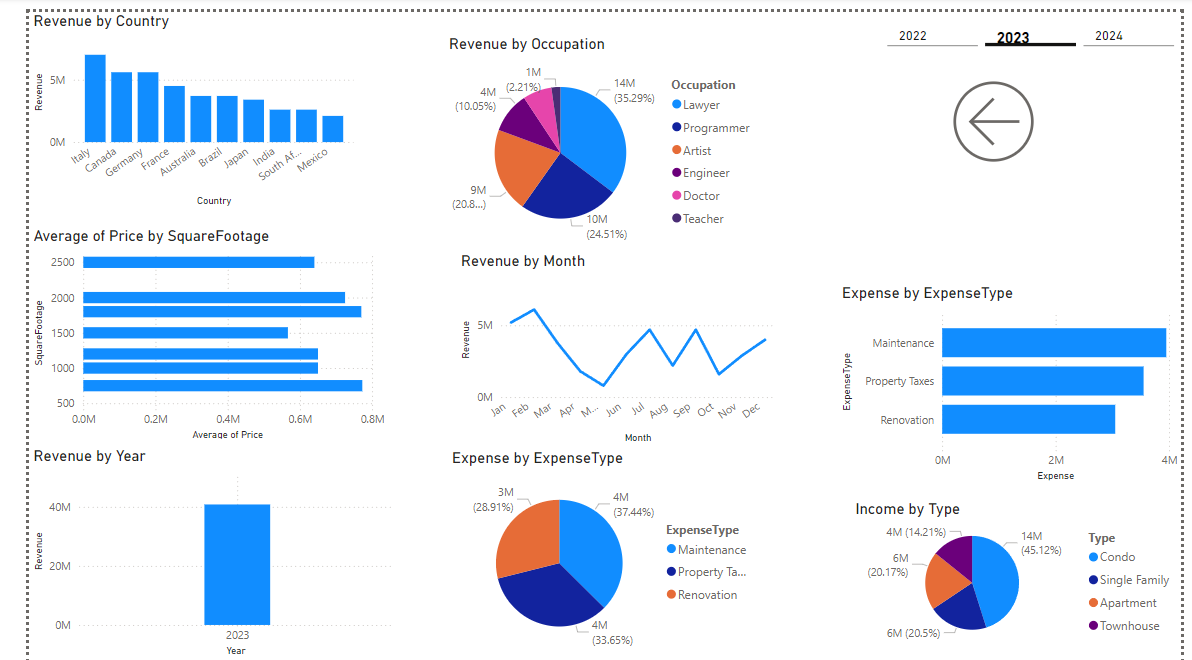

This screenshot's page, from the dashboard's own definition file:
{"tool":"powerbi","page":{"name":"Page 2","canvas":[1280,720],"ordinal":1},"visuals":[{"type":"lineChart","fields":{"Y":["All Measures.Revenue"],"Category":["Calendar.Month"]},"box":[474.4,267.2,357.8,217],"z":0},{"type":"barChart","fields":{"Category":["Property_Table.SquareFootage"],"Y":["Avg(Property_Table.Price)"]},"box":[0,238,399.9,241.3],"z":2000},{"type":"advancedSlicerVisual","fields":{"Values":["Calendar.Year"]},"box":[948.3,0,331.7,43.3],"z":3001},{"type":"clusteredColumnChart","fields":{"Category":["Property_Table.Country"],"Y":["All Measures.Revenue"]},"box":[0,0,365.9,220.2],"z":3002},{"type":"pieChart","fields":{"Category":["Client_Table.Occupation"],"Y":["All Measures.Revenue"]},"box":[461.5,24.3,353,242.9],"z":3003},{"type":"pieChart","fields":{"Y":["All Measures.Expense"],"Category":["Expense_Table.ExpenseType"]},"box":[464.7,485.8,349.8,234.8],"z":3004},{"type":"barChart","fields":{"Category":["Expense_Table.ExpenseType"],"Y":["All Measures.Expense"]},"box":[898.7,301.2,382.1,223.5],"z":3005},{"type":"clusteredColumnChart","fields":{"Category":["Calendar.Year"],"Y":["All Measures.Revenue"]},"box":[0,484.1,408,236.4],"z":3006},{"type":"pieChart","fields":{"Y":["All Measures.Income"],"Category":["Property_Table.Type"]},"box":[913.2,542.4,367.6,165.2],"z":3007},{"type":"actionButton","box":[1016.9,66.4,215.4,110.1],"z":3008}]}

Visuals, with their boxes in screenshot pixels (x1, y1, x2, y2), scaled from the page's 1280x720 canvas onto the 1192x660 screenshot:
lineChart - All Measures.Revenue x Calendar.Month: x1=442, y1=245, x2=775, y2=444
barChart - Property_Table.SquareFootage x Avg(Property_Table.Price): x1=0, y1=218, x2=372, y2=439
advancedSlicerVisual - Calendar.Year: x1=883, y1=0, x2=1191, y2=40
clusteredColumnChart - Property_Table.Country x All Measures.Revenue: x1=0, y1=0, x2=341, y2=202
pieChart - Client_Table.Occupation x All Measures.Revenue: x1=430, y1=22, x2=759, y2=245
pieChart - All Measures.Expense x Expense_Table.ExpenseType: x1=433, y1=445, x2=759, y2=659
barChart - Expense_Table.ExpenseType x All Measures.Expense: x1=837, y1=276, x2=1191, y2=481
clusteredColumnChart - Calendar.Year x All Measures.Revenue: x1=0, y1=444, x2=380, y2=659
pieChart - All Measures.Income x Property_Table.Type: x1=850, y1=497, x2=1191, y2=649
actionButton: x1=947, y1=61, x2=1148, y2=162
